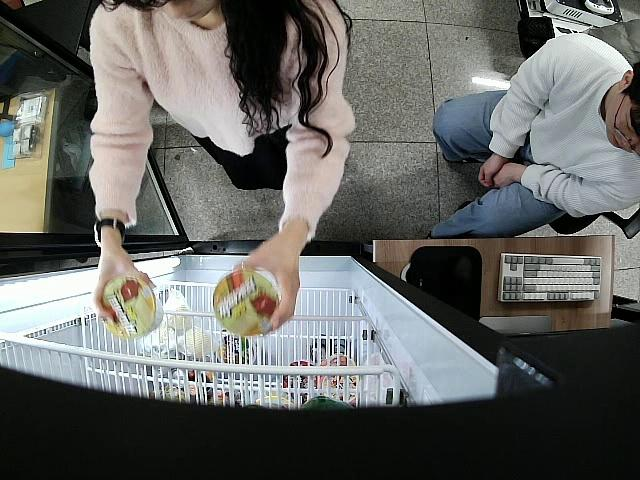00_hand: (234, 242, 299, 333), (91, 257, 157, 324)
04_chapagetti_S: (212, 268, 281, 337), (101, 276, 165, 339)
